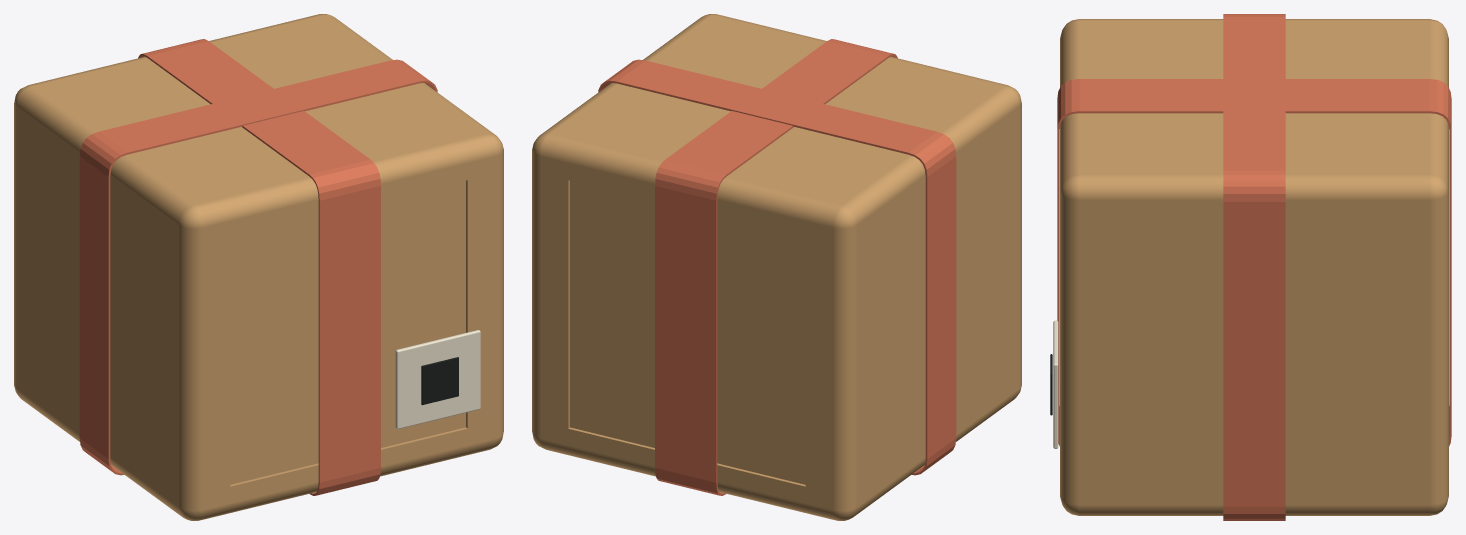
Rendered from play-parcel-small-coral.glb.
3 renders of one model, left to right at view 1: azimuth 30°, elevation 25°; view 2: azimuth 150°, elevation 25°; view 3: azimuth 270°, elevation 25°, orthographic. The views are drawn at different scales.
Visible parts, largest first — view 1: Parcel_Carton, Parcel_Tape_Continuous_Front_Back, Parcel_Tape_Continuous_Left_Right, Parcel_Paper_Label, Parcel_Label_Square; view 2: Parcel_Carton, Parcel_Tape_Continuous_Front_Back, Parcel_Tape_Continuous_Left_Right; view 3: Parcel_Carton, Parcel_Tape_Continuous_Left_Right, Parcel_Tape_Continuous_Front_Back, Parcel_Paper_Label.
Part boxes in pixels (x1,y1,x2,y2): Parcel_Carton: [14, 14, 503, 520]; Parcel_Tape_Continuous_Front_Back: [138, 39, 380, 495]; Parcel_Tape_Continuous_Left_Right: [79, 59, 437, 475]; Parcel_Paper_Label: [395, 330, 480, 429]; Parcel_Label_Square: [421, 357, 458, 405]; Parcel_Carton: [532, 14, 1021, 520]; Parcel_Tape_Continuous_Front_Back: [655, 39, 897, 495]; Parcel_Tape_Continuous_Left_Right: [598, 59, 956, 475]; Parcel_Carton: [1060, 19, 1448, 515]; Parcel_Tape_Continuous_Left_Right: [1223, 14, 1285, 520]; Parcel_Tape_Continuous_Front_Back: [1057, 79, 1451, 446]; Parcel_Paper_Label: [1053, 320, 1058, 448].
Size of the model in its own units: 0.148 by 0.138 by 0.1445.
